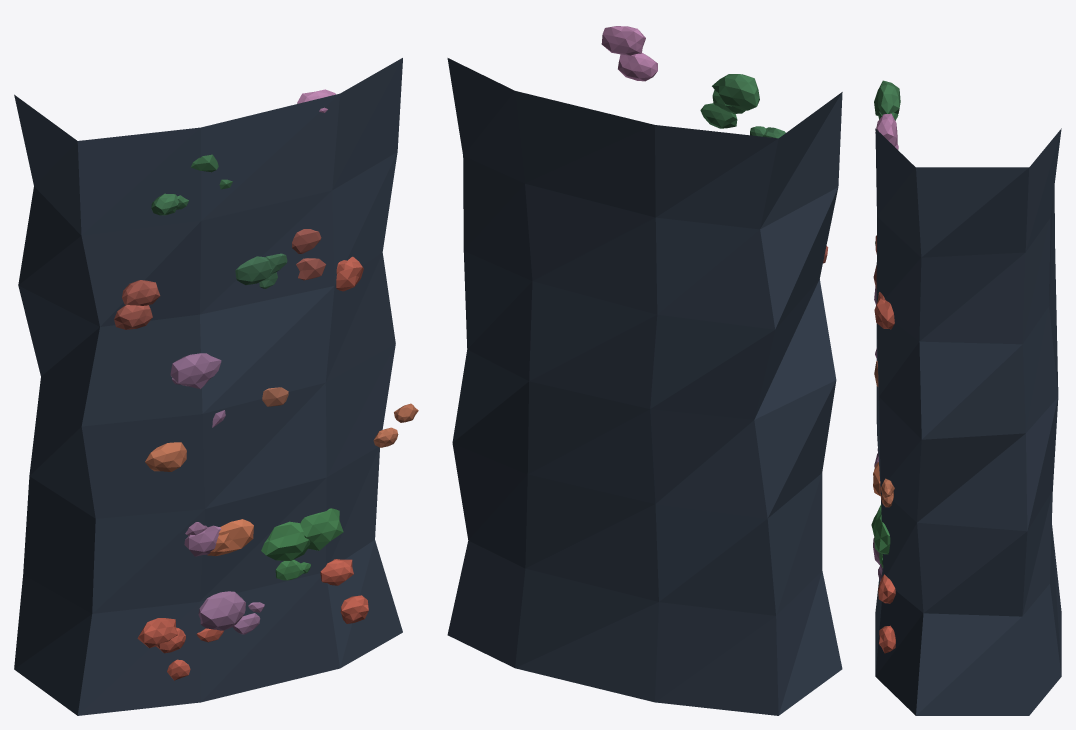
The model's file is bd_z2_reef_wall.glb.
3 views of the same model, side by side, from view 1: azimuth 30°, elevation 25°; view 2: azimuth 150°, elevation 25°; view 3: azimuth 270°, elevation 25° (orthographic). The views are drawn at different scales.
Parts seen in each view (by area): view 1: bd_z2_reef_wall; view 2: bd_z2_reef_wall; view 3: bd_z2_reef_wall.
Part boxes in pixels (x1,y1,x2,y2): bd_z2_reef_wall: [14, 58, 418, 715]; bd_z2_reef_wall: [447, 26, 842, 715]; bd_z2_reef_wall: [871, 80, 1061, 715].
Size of the model in its own units: 9 by 15 by 4.7.
